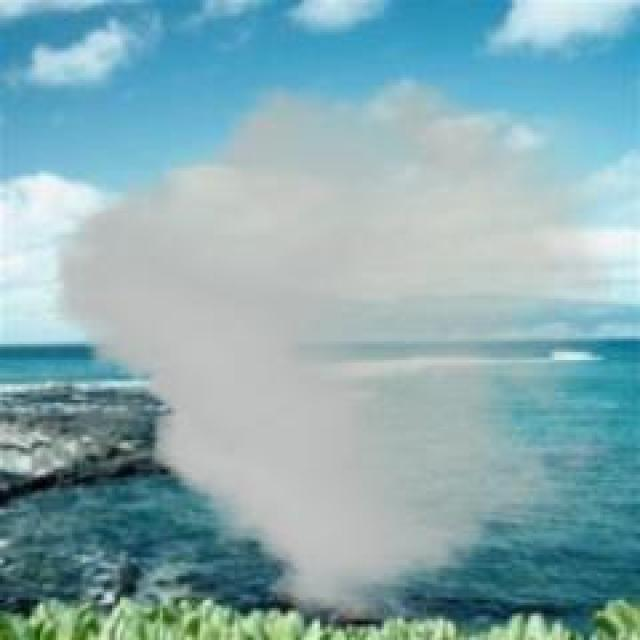smoke: (55, 76, 613, 620)
